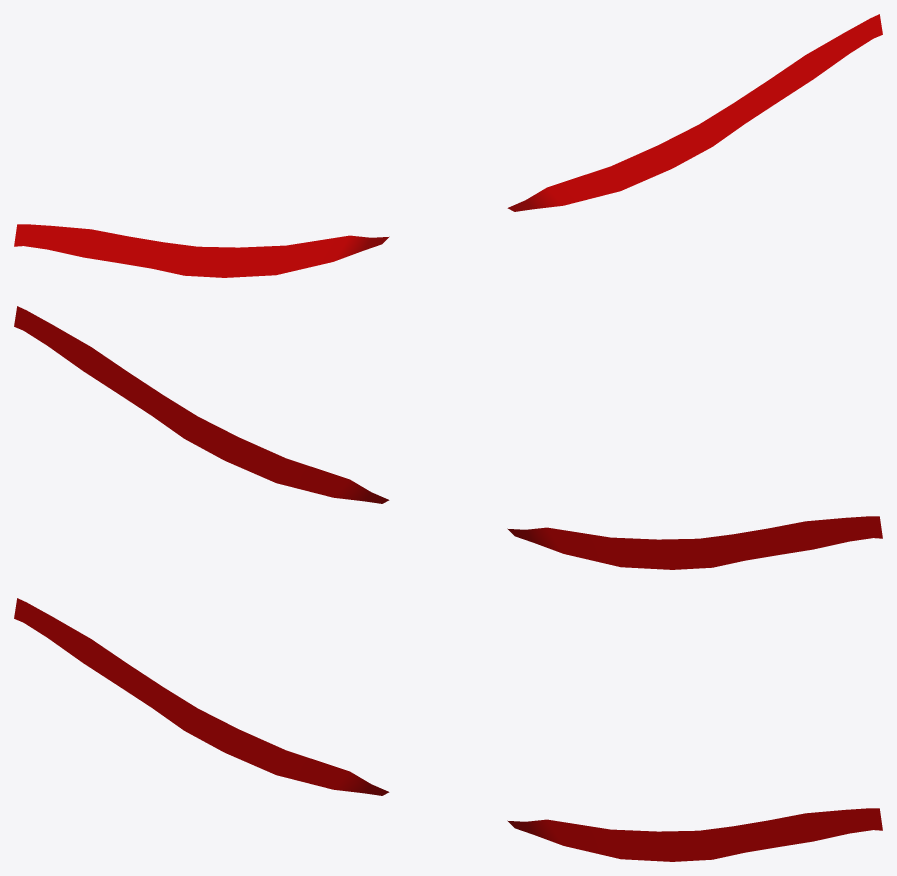
File: frame154.fbx
The picture shows the model from 3 angles, top to bottom: view 1: azimuth 30°, elevation 25°; view 2: azimuth 150°, elevation 25°; view 3: azimuth 330°, elevation 25°; orthographic projection.
Visible parts, largest first — view 1: MaterialLayer; view 2: MaterialLayer; view 3: MaterialLayer.
Part boxes in pixels (x1=…): MaterialLayer: x1=14, y1=14, x2=882, y2=277; MaterialLayer: x1=14, y1=306, x2=882, y2=569; MaterialLayer: x1=14, y1=598, x2=882, y2=861.
Bounding box in the file's own units: 1485 × 187 × 0.
